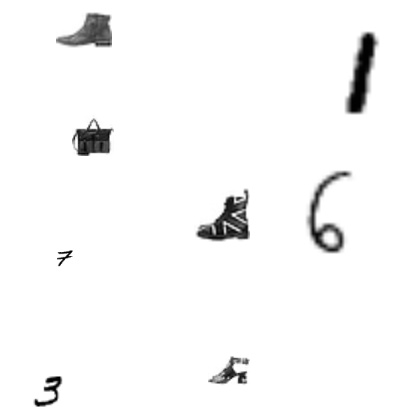1: (302, 17, 414, 129)
3: (29, 369, 71, 411)
6: (267, 160, 379, 272)
7: (53, 245, 75, 267)
Ankle_boot: (194, 187, 250, 243), (56, 1, 112, 57)
Bag: (72, 114, 114, 156)
Sandal: (208, 349, 250, 391)
